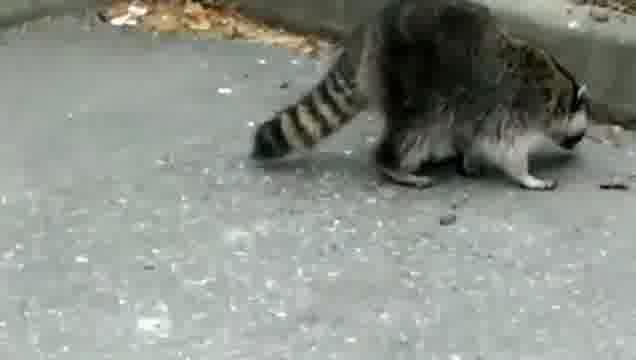raccoon: (250, 0, 593, 199)
